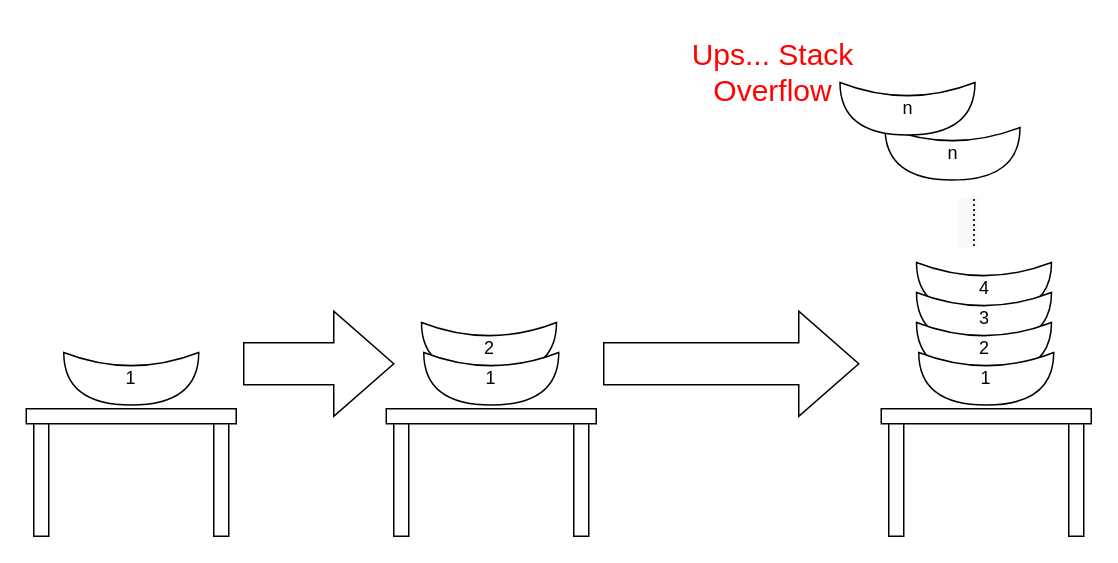
Image size: 1118x563. Some labels were removed from this diagram. The shapes that lost their labels are listed below. From the top down, each one's centre as x and y in pixels, then its label:
the point at 318,363: push
the point at 730,363: push n times...
